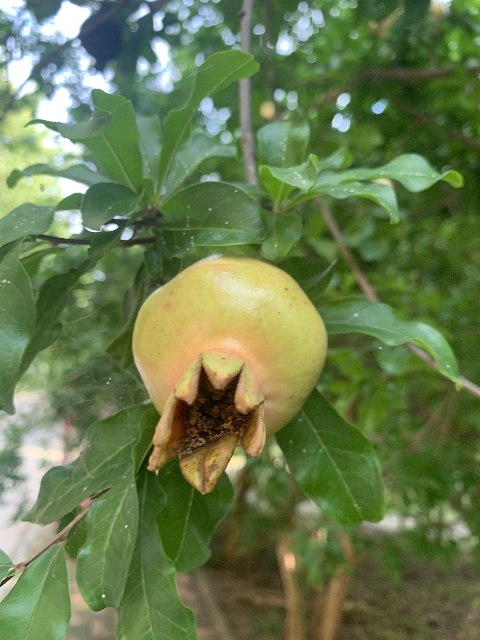mid-growth: (130, 256, 328, 496)
